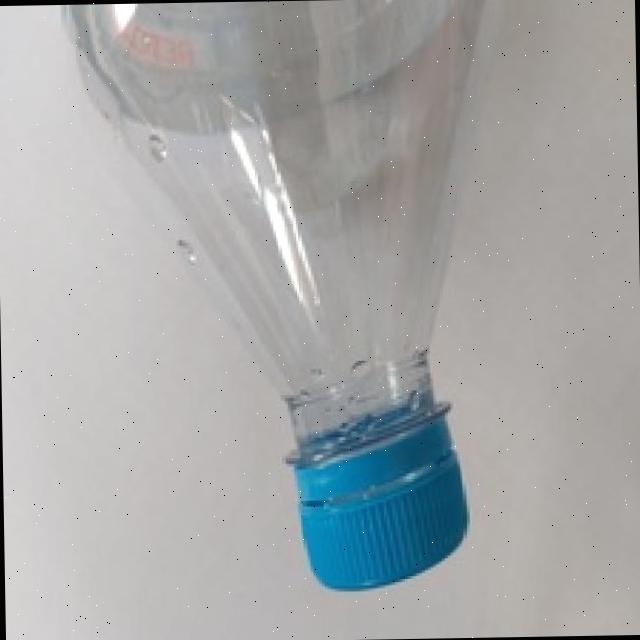bottle: (38, 1, 501, 595)
cap: (278, 390, 475, 590)
